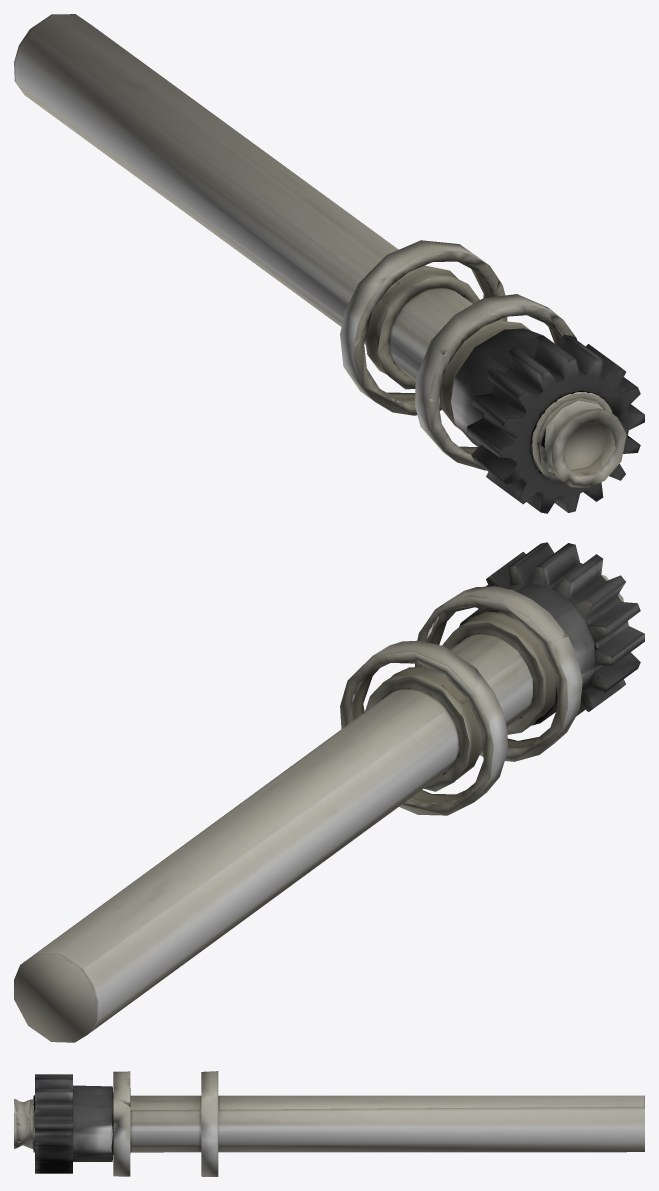
3 views of the same model, one above another, from view 1: azimuth 30°, elevation 25°; view 2: azimuth 150°, elevation 25°; view 3: azimuth 270°, elevation 25° (orthographic). The views are drawn at different scales.
Visible parts, largest first — view 1: Piñon_Mesh.2897; view 2: Piñon_Mesh.2897; view 3: Piñon_Mesh.2897.
Part boxes in pixels (<box>): Piñon_Mesh.2897: <box>14,14,644,513</box>; Piñon_Mesh.2897: <box>14,542,644,1042</box>; Piñon_Mesh.2897: <box>14,1071,644,1176</box>.
Size of the model in its own units: 0.0718 by 0.0723 by 0.4311.
Materials: 2 (2 with a texture image).
